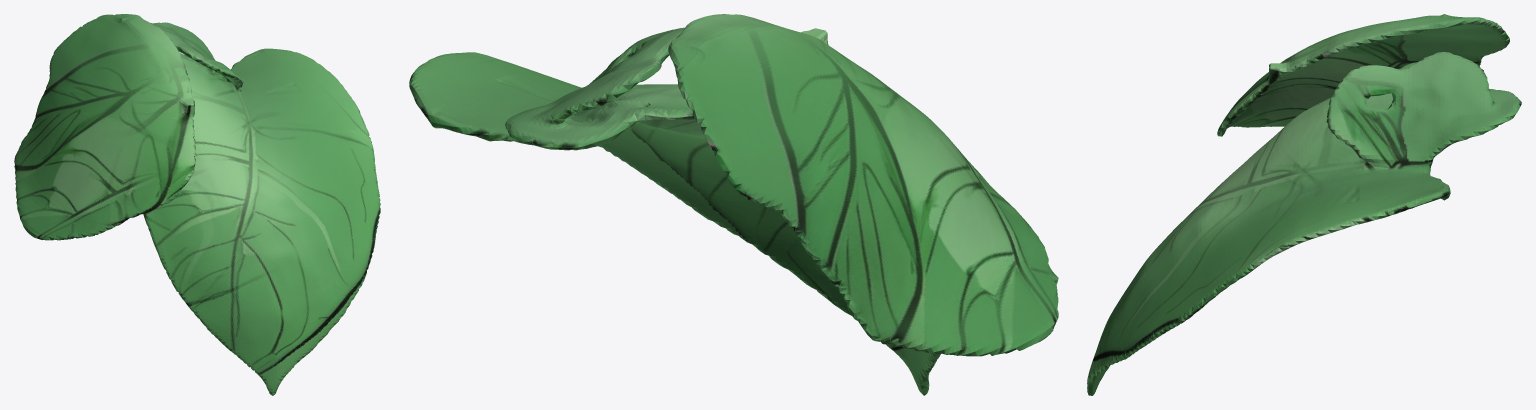
Rendered from plant.glb.
3 views of the same model, side by side, from view 1: azimuth 30°, elevation 25°; view 2: azimuth 150°, elevation 25°; view 3: azimuth 270°, elevation 25° (orthographic). The views are drawn at different scales.
Parts seen in each view (by area): view 1: plant; view 2: plant; view 3: plant.
Boxes of the visible parts, x1,y1,x2,y2 form: plant: [14, 14, 380, 395]; plant: [409, 14, 1058, 395]; plant: [1087, 14, 1521, 395].
Bounding box in the file's own units: 2.14 × 1.84 × 1.95.
1 material, 1 textured.
